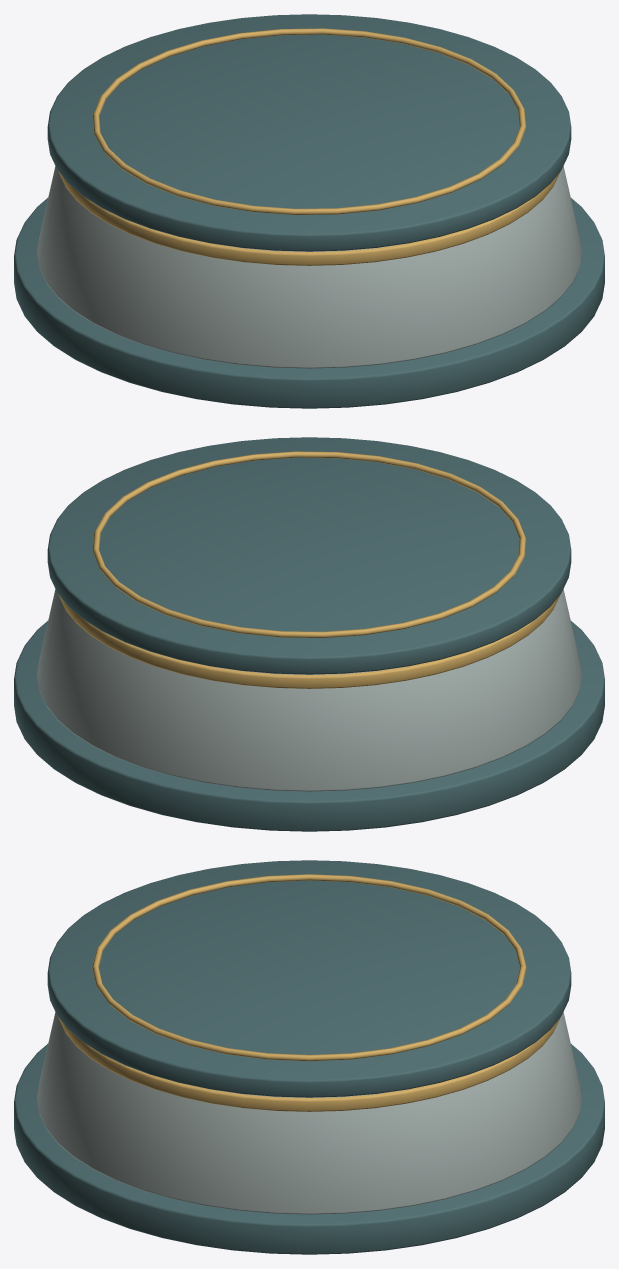
Rendered from podium.glb.
3 views of the same model, one above another, from view 1: azimuth 30°, elevation 25°; view 2: azimuth 150°, elevation 25°; view 3: azimuth 270°, elevation 25° (orthographic).
Parts seen in each view (by area): view 1: podium; view 2: podium; view 3: podium.
Part boxes in pixels (x1,y1,x2,y2): podium: (14,14,604,408); podium: (14,437,604,831); podium: (14,860,604,1254).
Bounding box in the file's own units: 2.1 × 0.6484 × 2.1.
